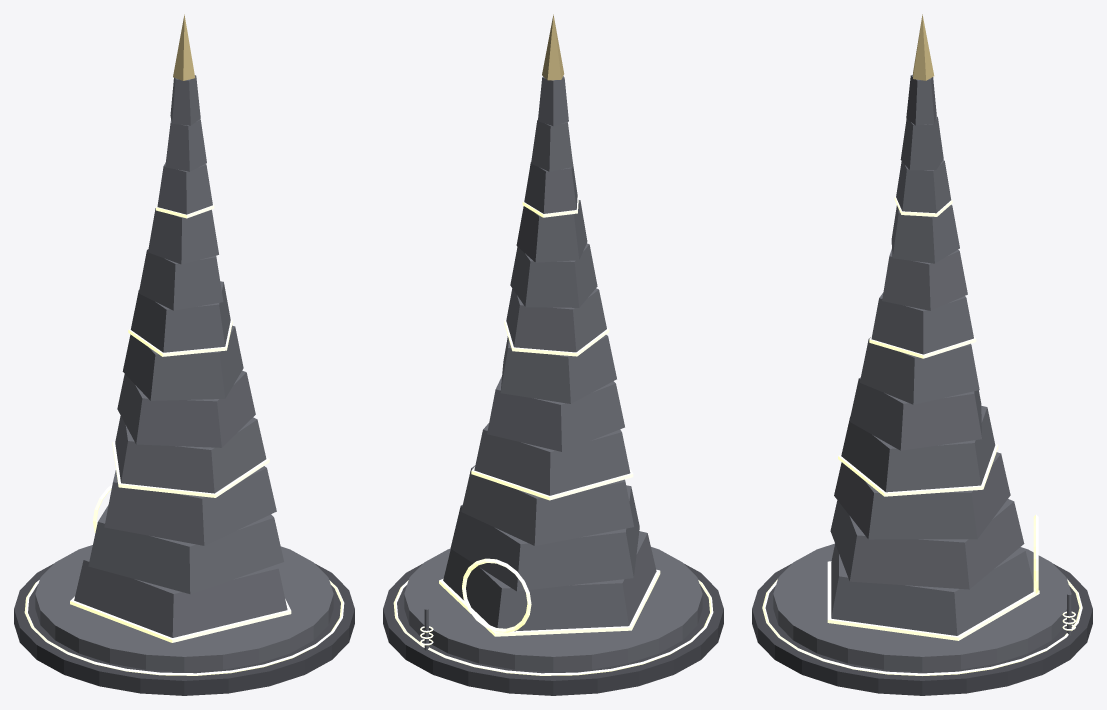
Rendered from zone_high_1_t3.glb.
The picture shows the model from 3 angles, left to right: view 1: azimuth 30°, elevation 25°; view 2: azimuth 150°, elevation 25°; view 3: azimuth 270°, elevation 25°; orthographic projection.
Parts seen in each view (by area): view 1: zone_high_1_t3; view 2: zone_high_1_t3; view 3: zone_high_1_t3.
Boxes of the visible parts, left/top/right/bottom form: zone_high_1_t3: left=14, top=14, right=354, bottom=695; zone_high_1_t3: left=383, top=14, right=723, bottom=695; zone_high_1_t3: left=752, top=14, right=1092, bottom=695.
Bounding box in the file's own units: 28.8 × 56.85 × 28.8.
